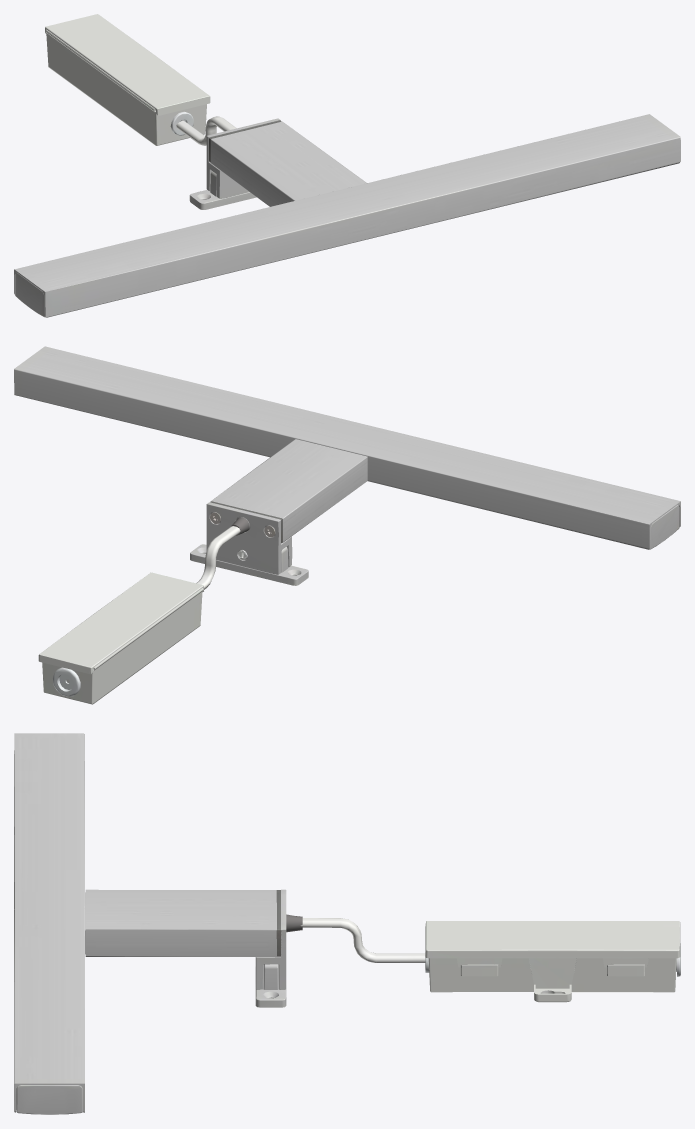
The model's file is Vathult40467548-scene-512.glb.
3 renders of one model, top to bottom at view 1: azimuth 30°, elevation 25°; view 2: azimuth 150°, elevation 25°; view 3: azimuth 270°, elevation 25°, orthographic. The views are drawn at different scales.
Visible parts, largest first — view 1: 40467548-VÃƒâ€¦THULT001; view 2: 40467548-VÃƒâ€¦THULT001; view 3: 40467548-VÃƒâ€¦THULT001.
Part boxes in pixels (x1=…): 40467548-VÃƒâ€¦THULT001: x1=14, y1=14, x2=680, y2=317; 40467548-VÃƒâ€¦THULT001: x1=14, y1=346, x2=680, y2=704; 40467548-VÃƒâ€¦THULT001: x1=14, y1=733, x2=680, y2=1114.
Bounding box in the file's own units: 0.3511 × 0.0324 × 0.2827.
Materials: 1 (1 with a texture image).
